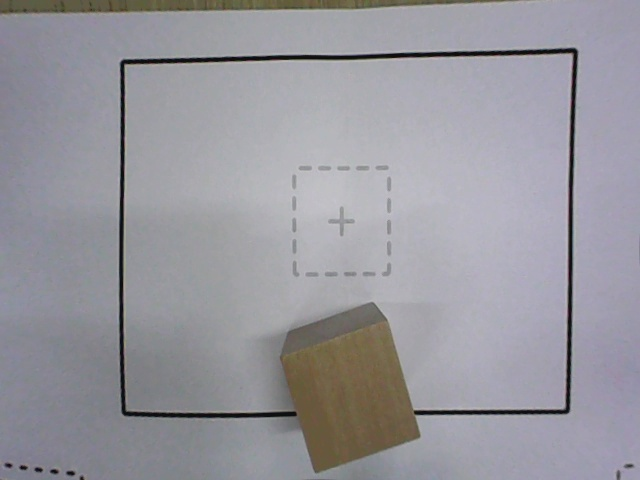upside of big cube: (278, 320, 424, 475)
